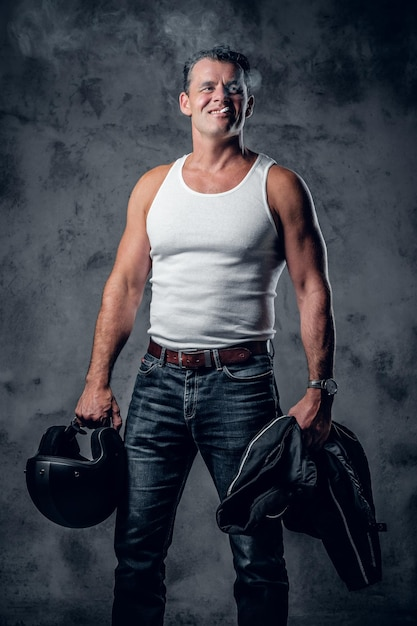cigarette: (217, 106, 229, 115)
